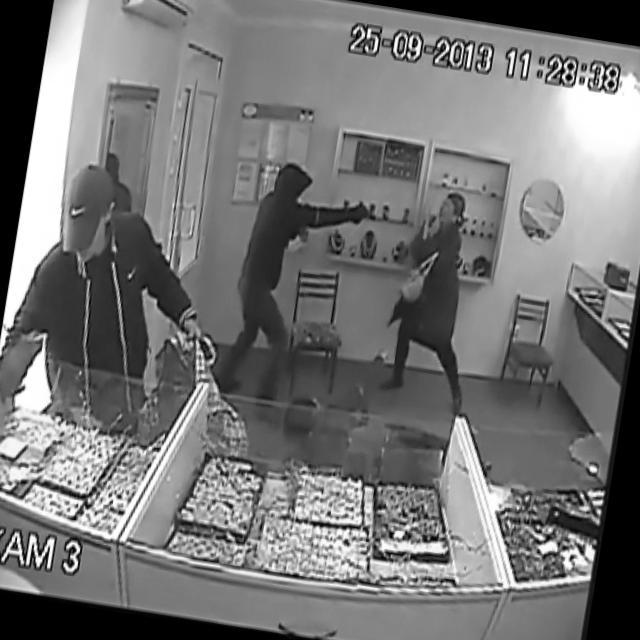gun: (321, 189, 381, 242)
person: (363, 176, 508, 438), (40, 156, 146, 337)
person with a gun: (218, 152, 381, 408)
